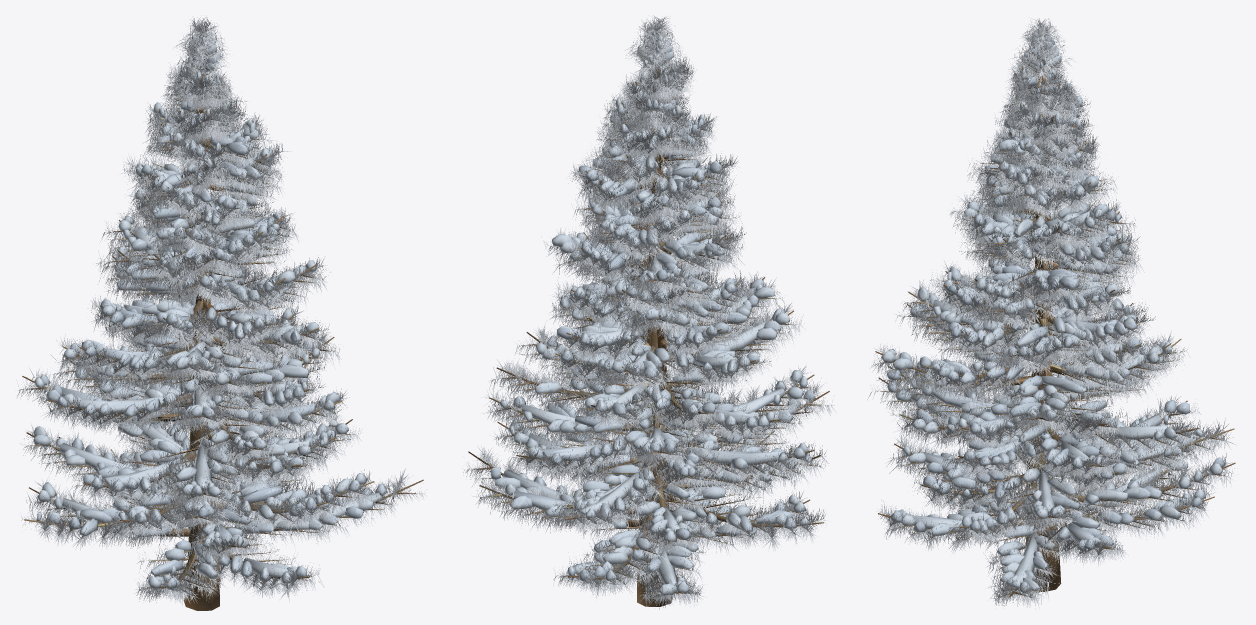
File: snowy-pine-photo-v02.glb
The picture shows the model from 3 angles, left to right: view 1: azimuth 30°, elevation 25°; view 2: azimuth 150°, elevation 25°; view 3: azimuth 270°, elevation 25°; orthographic projection. The views are drawn at different scales.
Parts seen in each view (by area): view 1: Snowy pine | individual evergreen needles, Snowy pine | uneven snow on branches, Snowy pine | trunk and branching boughs; view 2: Snowy pine | individual evergreen needles, Snowy pine | uneven snow on branches, Snowy pine | trunk and branching boughs; view 3: Snowy pine | individual evergreen needles, Snowy pine | uneven snow on branches, Snowy pine | trunk and branching boughs.
Boxes of the visible parts, left/top/right/bottom form: Snowy pine | individual evergreen needles: left=17, top=17, right=427, bottom=605; Snowy pine | uneven snow on branches: left=33, top=34, right=387, bottom=589; Snowy pine | trunk and branching boughs: left=22, top=48, right=423, bottom=610; Snowy pine | individual evergreen needles: left=462, top=15, right=835, bottom=609; Snowy pine | uneven snow on branches: left=490, top=30, right=815, bottom=595; Snowy pine | trunk and branching boughs: left=468, top=35, right=829, bottom=606; Snowy pine | individual evergreen needles: left=867, top=18, right=1236, bottom=608; Snowy pine | uneven snow on branches: left=881, top=33, right=1224, bottom=592; Snowy pine | trunk and branching boughs: left=875, top=50, right=1235, bottom=597.
Size of the model in its own units: 5.54 by 8.2 by 4.92.
Materials: 6 (6 with a texture image).
